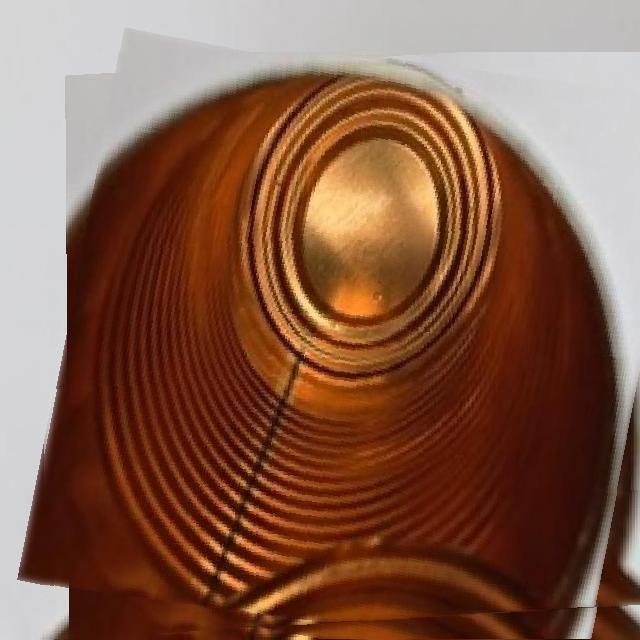recyclable: (41, 52, 640, 640)
